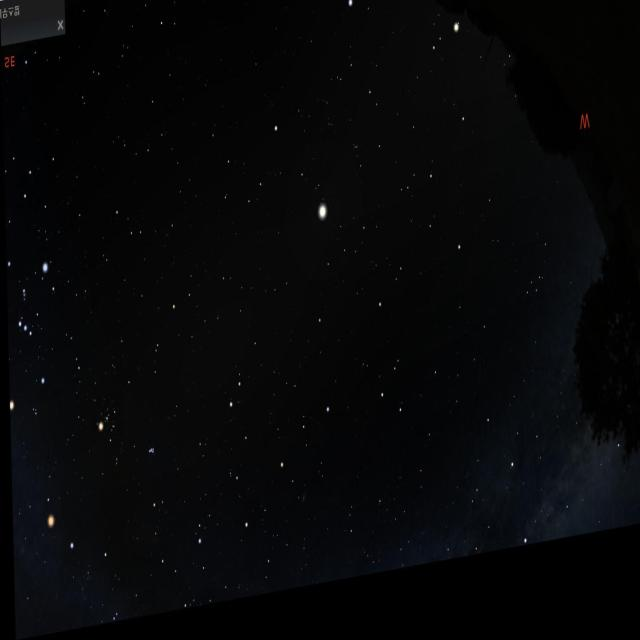cygnus: (482, 422, 599, 570)
orion: (5, 249, 50, 419)
pleiades: (138, 441, 158, 468)
taurus: (90, 368, 172, 483)
